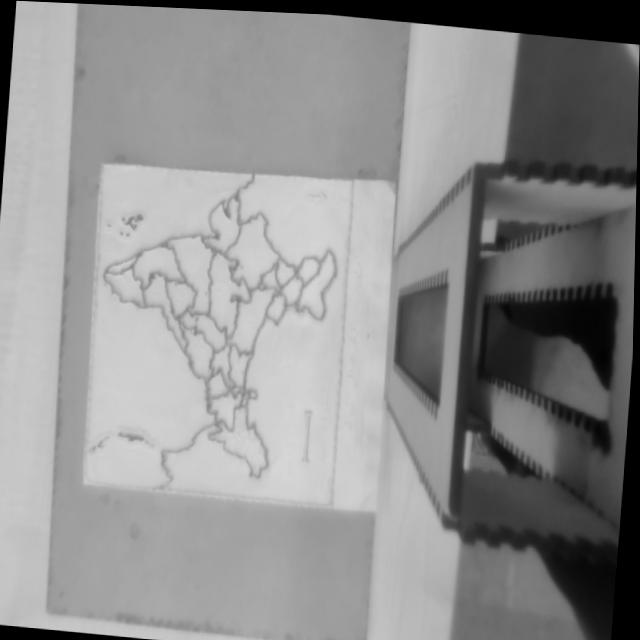map: (80, 163, 354, 507)
